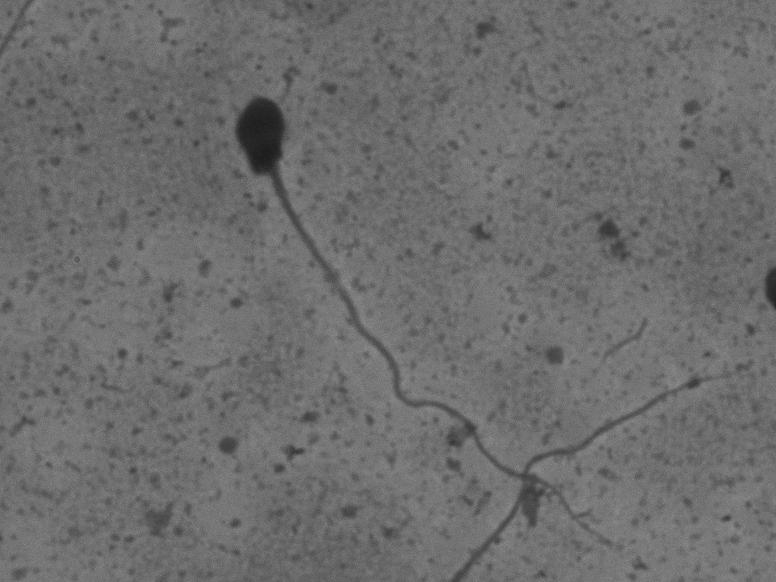Abnormal: (218, 70, 627, 557)
